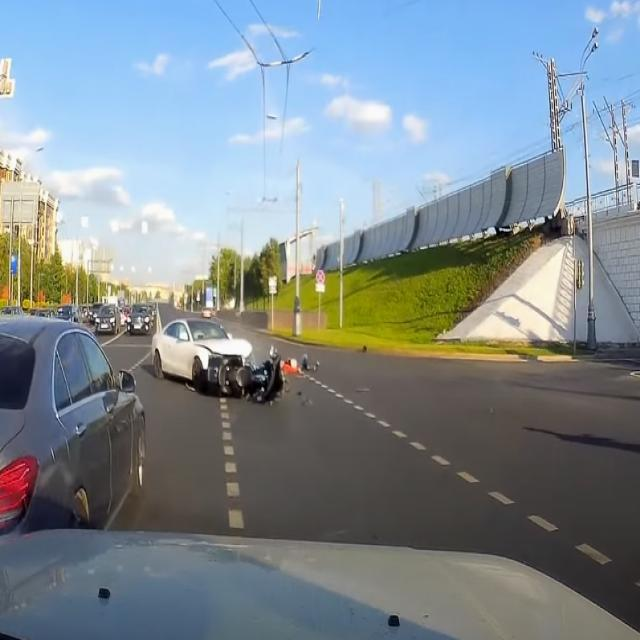accident: (150, 318, 322, 409)
non-accident: (88, 301, 156, 335), (95, 304, 151, 334)
